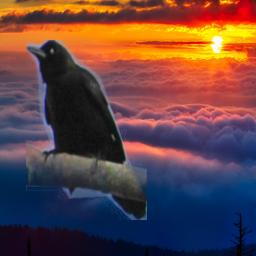Crow: (26, 40, 147, 220)
